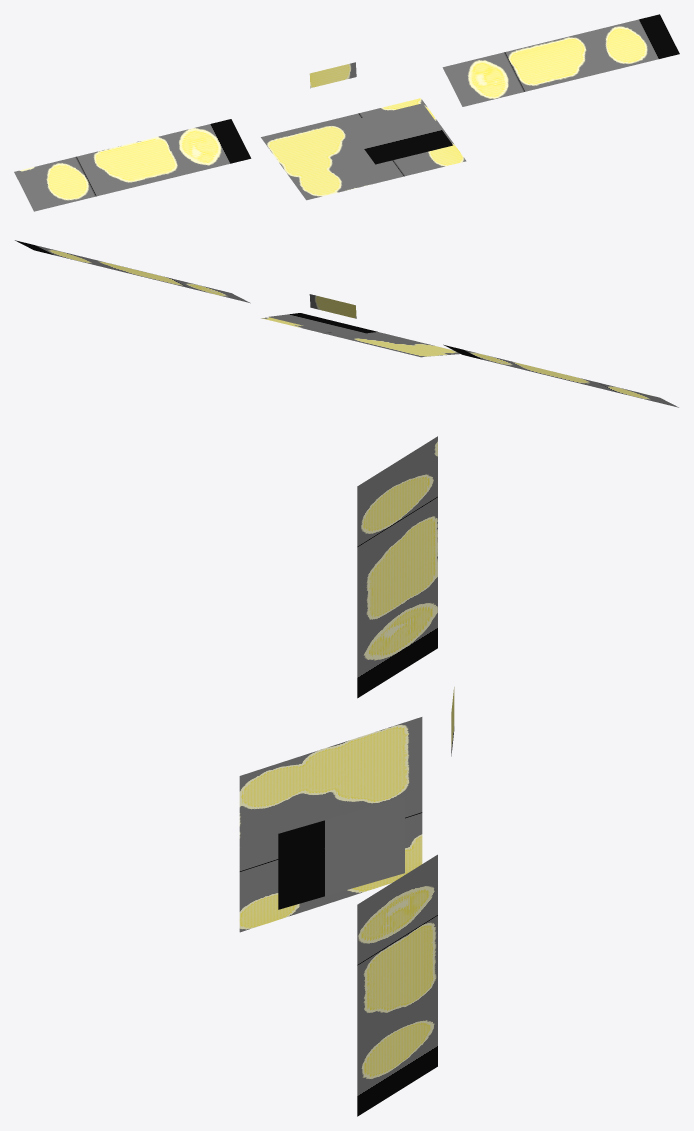
File: ConsoleText.fbx
3 renders of one model, top to bottom at view 1: azimuth 30°, elevation 25°; view 2: azimuth 150°, elevation 25°; view 3: azimuth 270°, elevation 25°, orthographic. The views are drawn at different scales.
Visible parts, largest first — view 1: ConsoleText, ConsoleTextHit; view 2: ConsoleText, ConsoleTextHit; view 3: ConsoleText, ConsoleTextHit.
Boxes of the visible parts, x1,y1,x2,y2 form: ConsoleText: [14, 14, 679, 211]; ConsoleTextHit: [345, 103, 452, 164]; ConsoleText: [15, 240, 678, 407]; ConsoleTextHit: [269, 313, 377, 335]; ConsoleText: [239, 436, 454, 1116]; ConsoleTextHit: [278, 797, 404, 909].
Bounding box in the file's own units: 421 × 45.93 × 60.68.
1 material, 1 textured.
